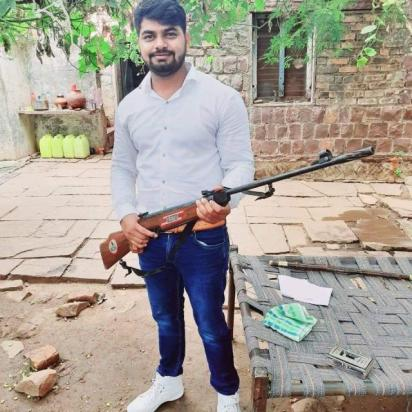Gun: (97, 144, 377, 273)
